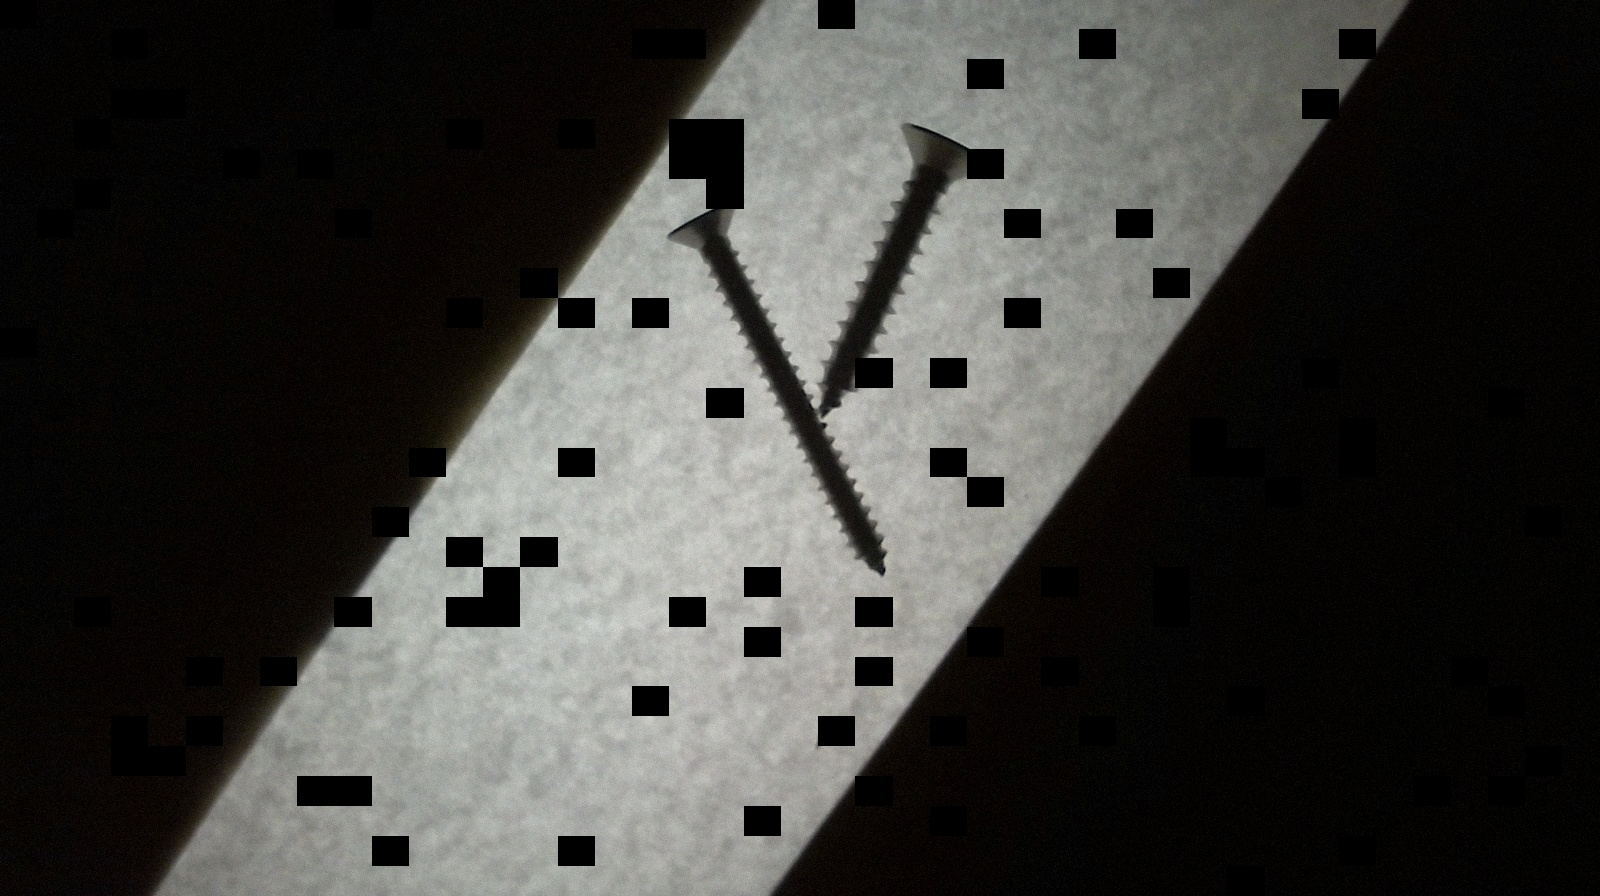S001: (821, 122, 992, 417)
S002: (668, 201, 888, 583)
